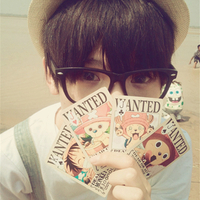face: (62, 26, 163, 162)
